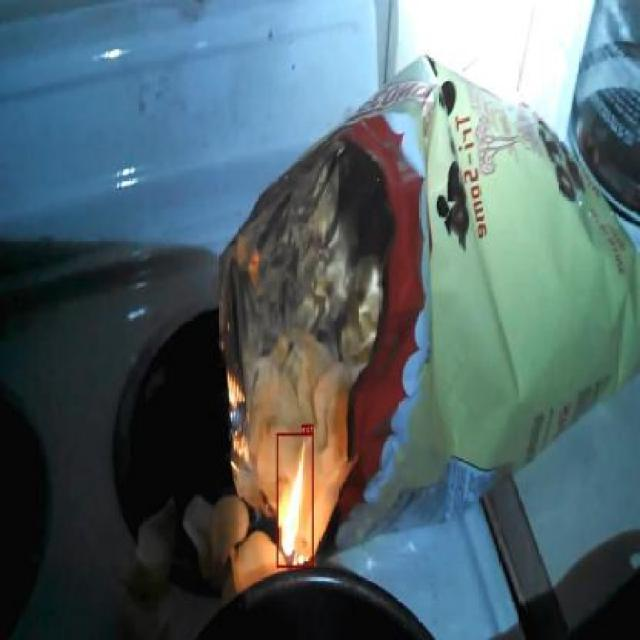fire: (277, 432, 314, 568)
